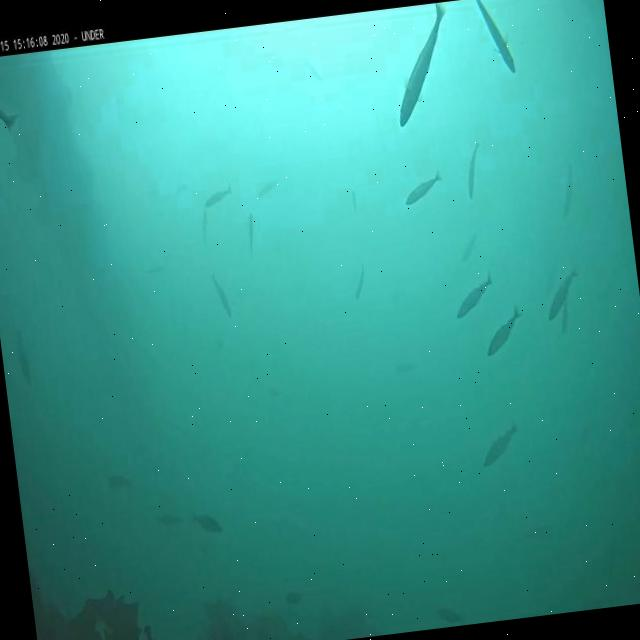fish: (386, 4, 456, 125), (472, 0, 520, 79), (452, 270, 498, 318), (482, 305, 523, 357), (542, 270, 582, 318), (0, 54, 22, 138), (402, 169, 446, 207), (480, 426, 519, 464), (462, 140, 484, 198), (210, 272, 232, 318), (558, 164, 577, 217), (202, 183, 236, 209), (190, 509, 222, 536)
